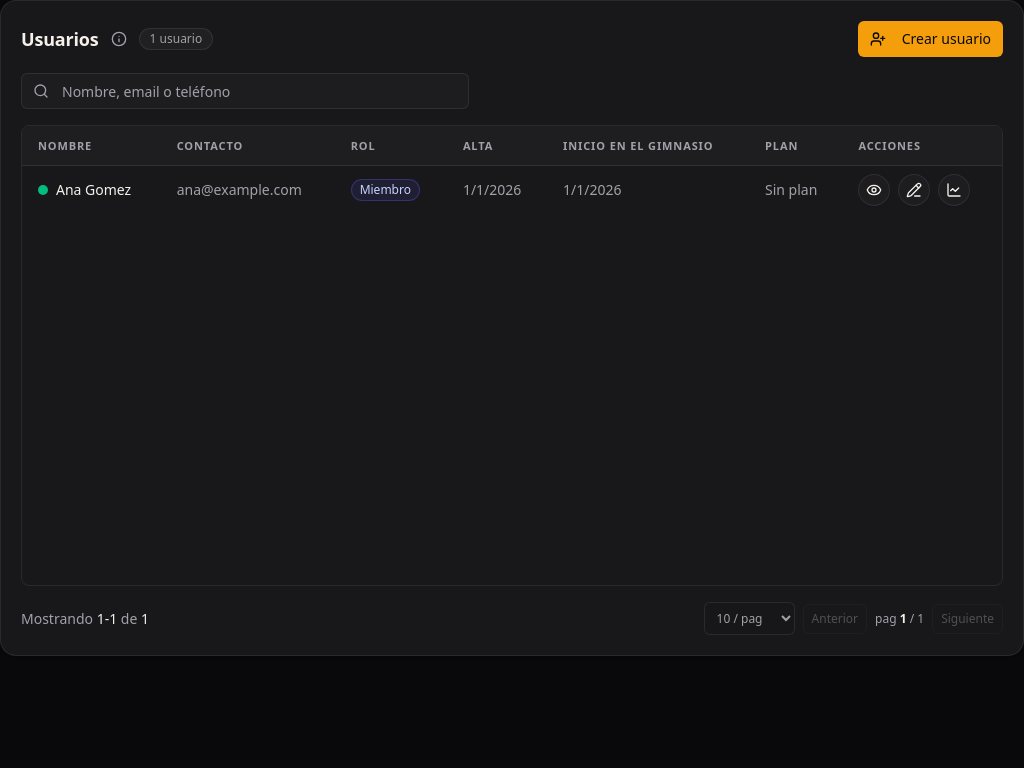
Scenario: vista de Usuarios › el boton Crear usuario abre el modal de alta
This screenshot has width=1024, height=768.
Expected: the text "Ana Gomez" is shown, [38,180,145,200]
Click the button "Crear usuario".
click(930, 39)  # box [858,21,1003,57]
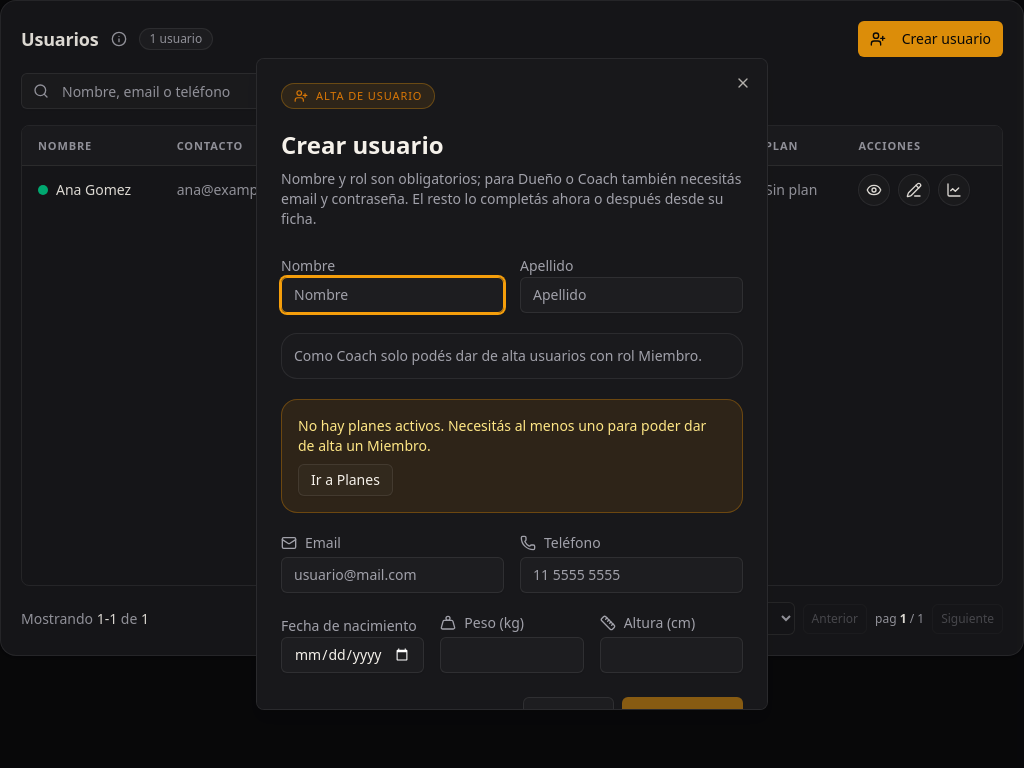
Now the heading "Crear usuario" is shown, box [281,128,444,161]
